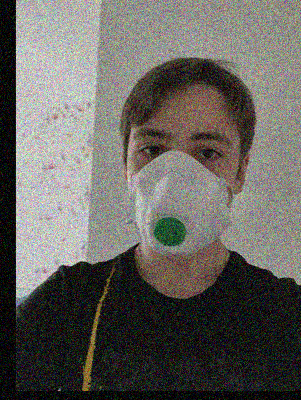with_mask: (124, 101, 238, 256)
